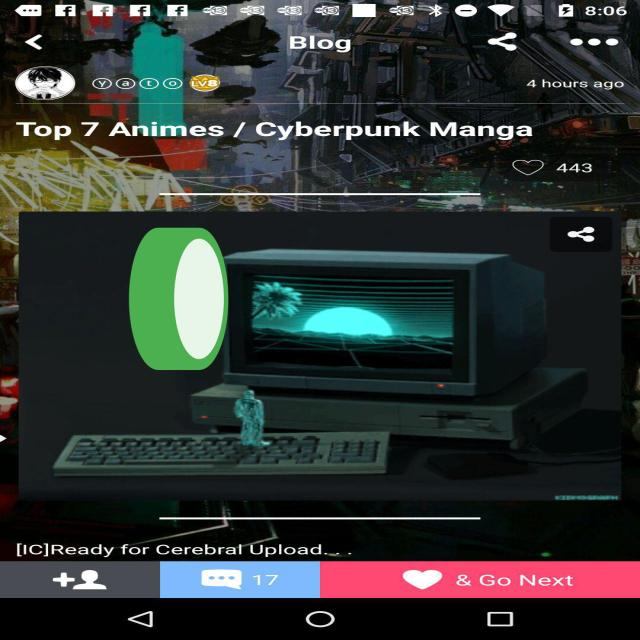social proof: (124, 173, 233, 436)
